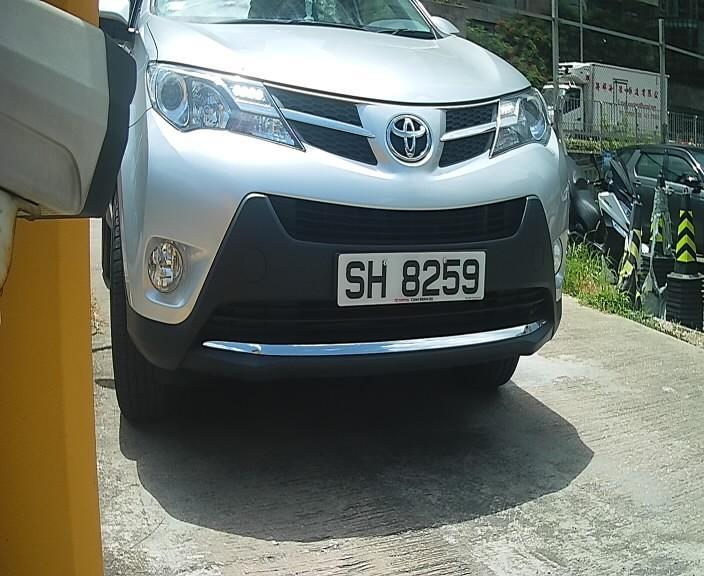License Plate: (321, 245, 497, 312)
